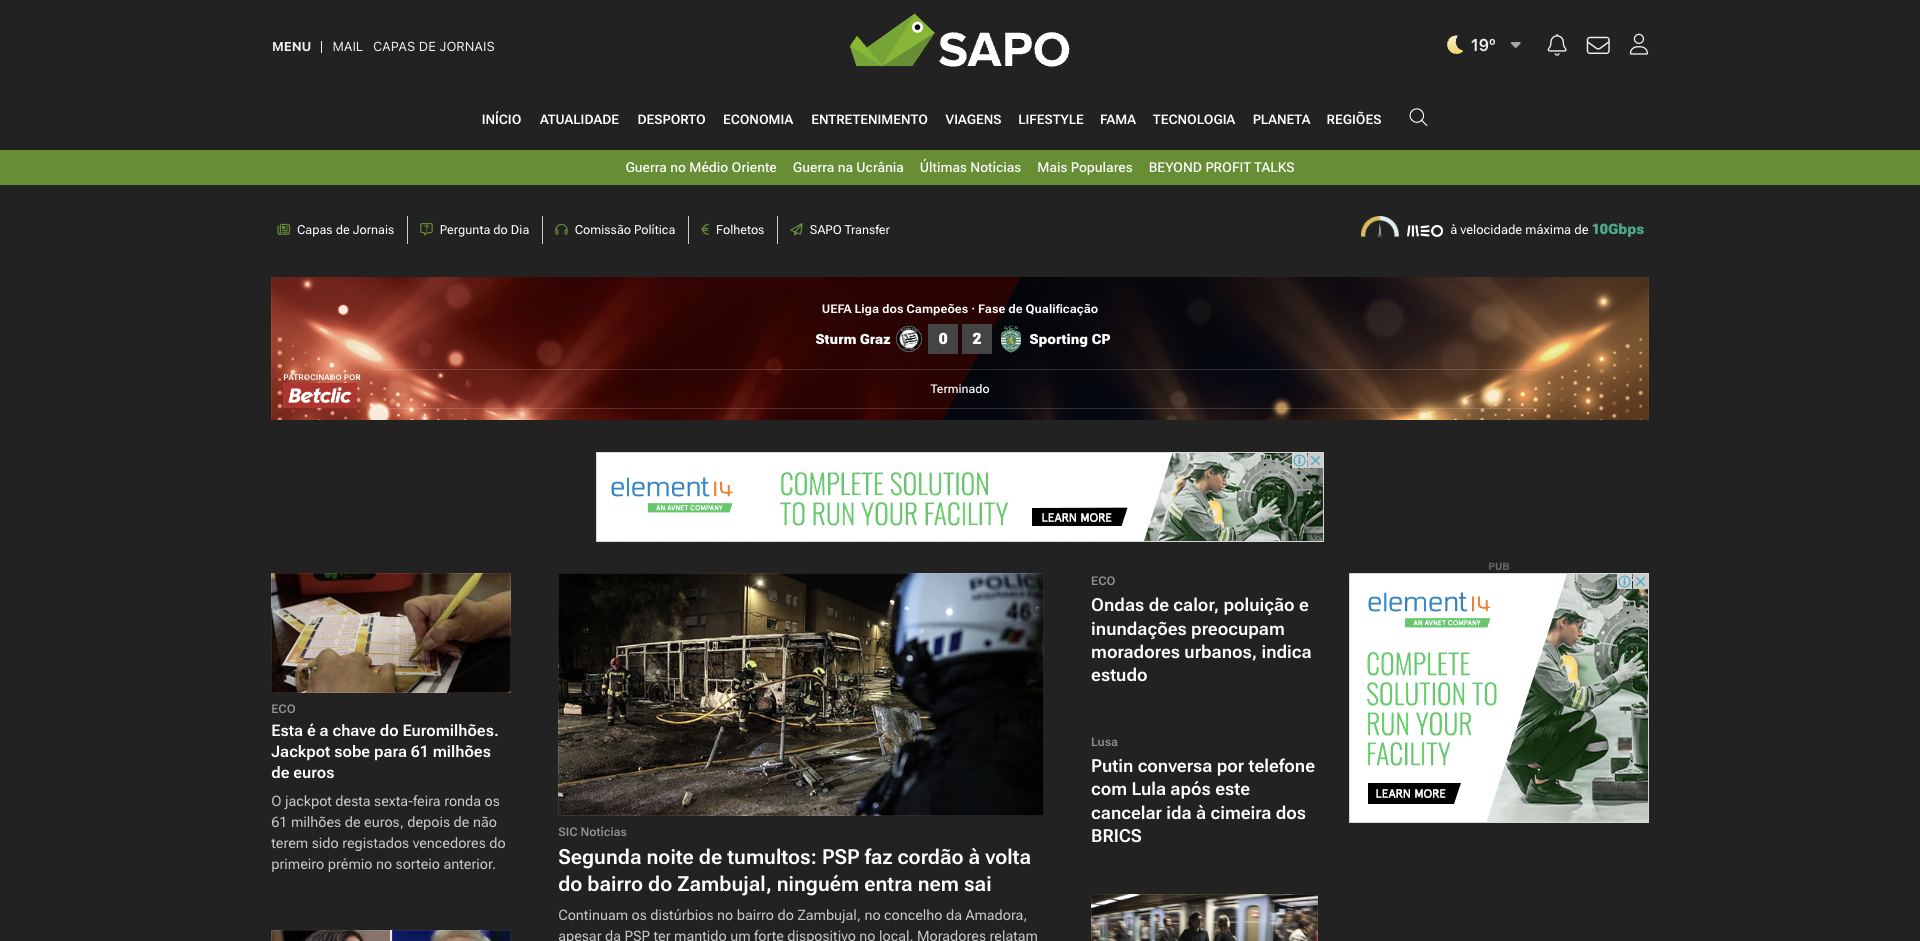button: (1452, 216, 1649, 253), (1458, 446, 1490, 482), (272, 40, 311, 53)
dropdown: (1488, 31, 1689, 52)
input: (271, 216, 1440, 252)
link: (558, 573, 1044, 816), (302, 324, 1618, 354), (271, 573, 511, 693), (558, 845, 1031, 896), (1091, 755, 1315, 846), (1091, 594, 1312, 685), (850, 0, 1070, 90), (271, 721, 499, 782), (1091, 894, 1318, 941), (802, 90, 938, 150), (1144, 90, 1244, 150), (530, 90, 628, 150), (617, 150, 785, 185), (1141, 150, 1303, 185), (714, 90, 802, 150), (628, 90, 714, 150), (1010, 90, 1092, 150), (785, 150, 912, 185), (1244, 90, 1318, 150), (938, 90, 1010, 150), (1318, 90, 1390, 150), (912, 150, 1029, 185), (543, 216, 688, 244), (265, 216, 407, 244), (1029, 150, 1141, 185), (408, 216, 542, 244), (472, 90, 530, 150), (1390, 90, 1448, 150), (778, 216, 902, 244), (1092, 90, 1144, 150), (271, 930, 511, 941), (689, 216, 777, 244), (373, 40, 495, 53), (283, 386, 357, 404), (930, 379, 990, 397), (558, 825, 627, 839), (1587, 39, 1610, 57), (332, 40, 363, 53), (1091, 734, 1118, 748), (1547, 38, 1567, 56), (271, 702, 296, 716), (1091, 574, 1115, 588), (1630, 37, 1648, 55)
